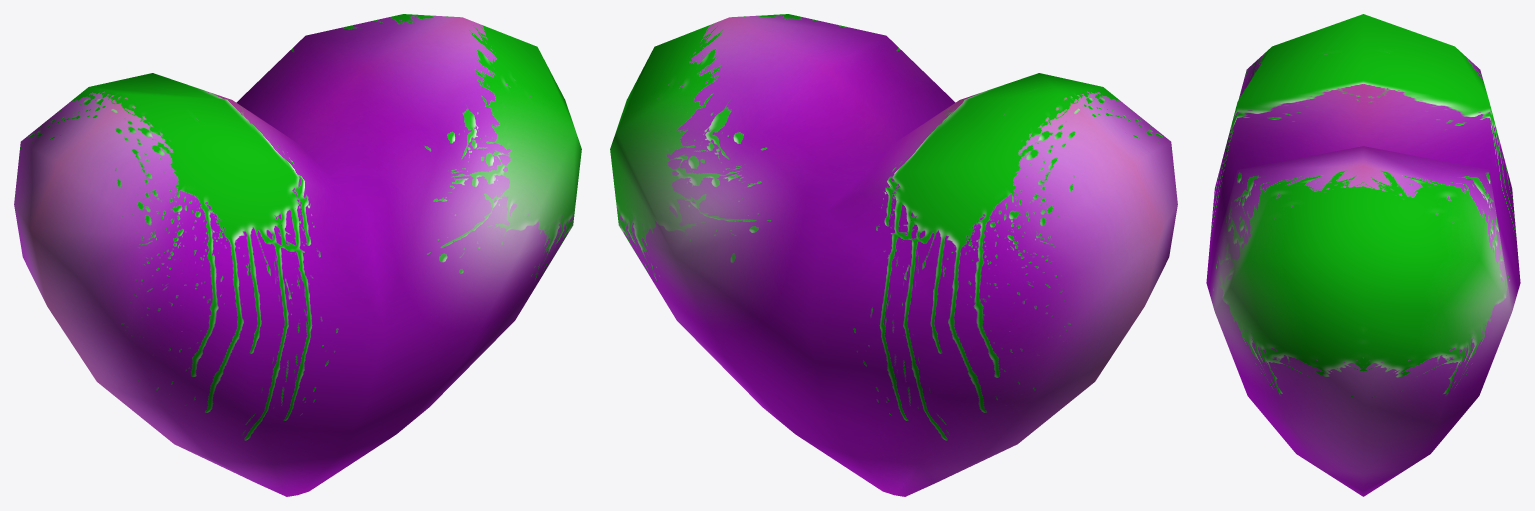
The model's file is heart.FBX.
3 views of the same model, side by side, from view 1: azimuth 30°, elevation 25°; view 2: azimuth 150°, elevation 25°; view 3: azimuth 270°, elevation 25° (orthographic). The views are drawn at different scales.
Parts seen in each view (by area): view 1: Box004; view 2: Box004; view 3: Box004.
Part boxes in pixels (<box>): Box004: <box>14,14,581,496</box>; Box004: <box>610,14,1177,496</box>; Box004: <box>1206,14,1520,496</box>.
Bounding box in the file's own units: 72.52 × 57.24 × 40.37.
